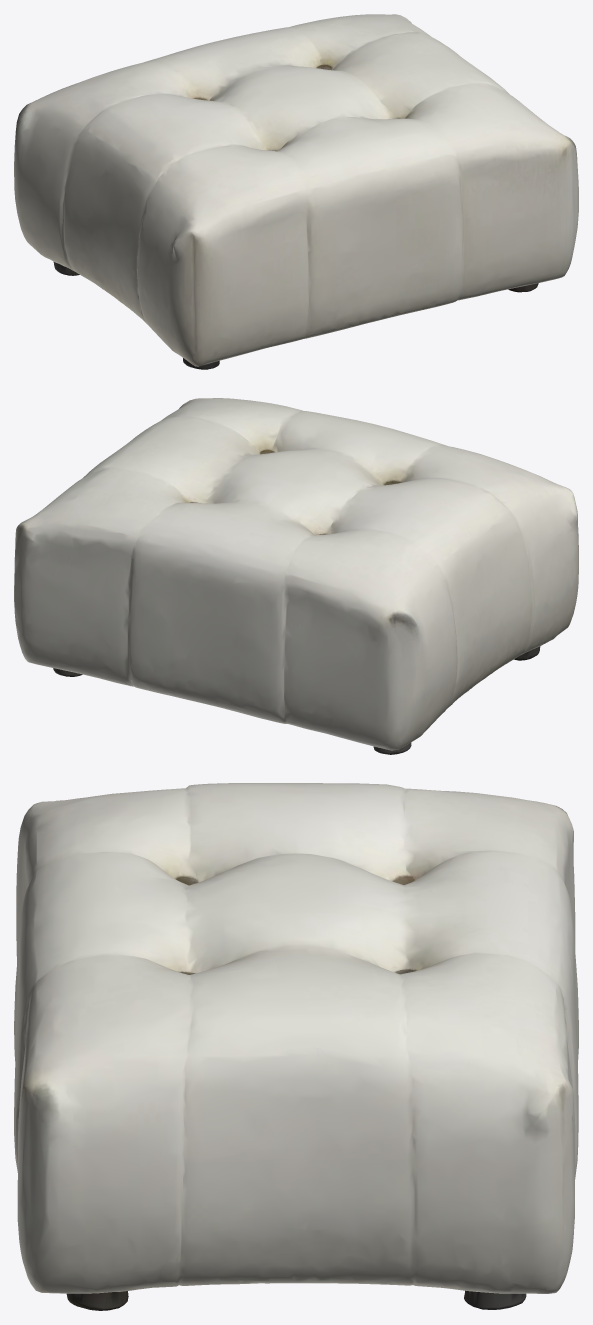
3 views of the same model, one above another, from view 1: azimuth 30°, elevation 25°; view 2: azimuth 150°, elevation 25°; view 3: azimuth 270°, elevation 25° (orthographic). The views are drawn at different scales.
Parts seen in each view (by area): view 1: geometry_0; view 2: geometry_0; view 3: geometry_0.
Part boxes in pixels (<box>): geometry_0: <box>14,14,578,369</box>; geometry_0: <box>14,398,578,754</box>; geometry_0: <box>14,783,578,1310</box>.
Size of the model in its own units: 0.9973 by 0.4536 by 0.7852.
1 material, 1 textured.
